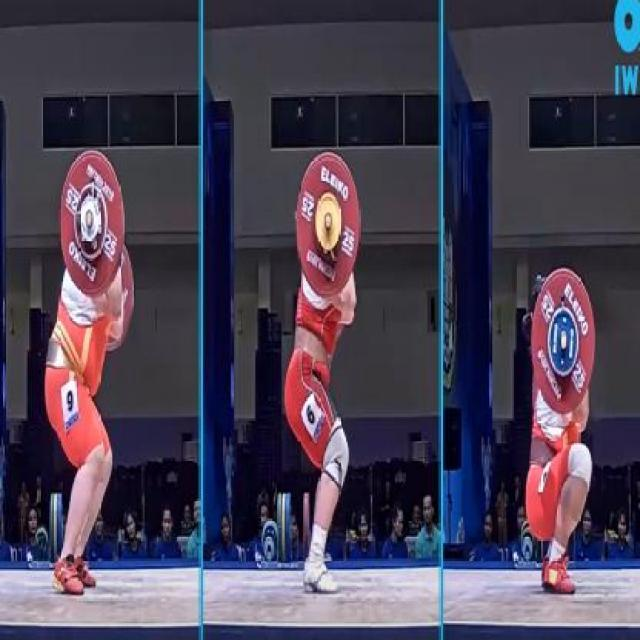Barbell: (320, 204, 334, 233), (558, 326, 570, 356), (82, 205, 95, 232)
